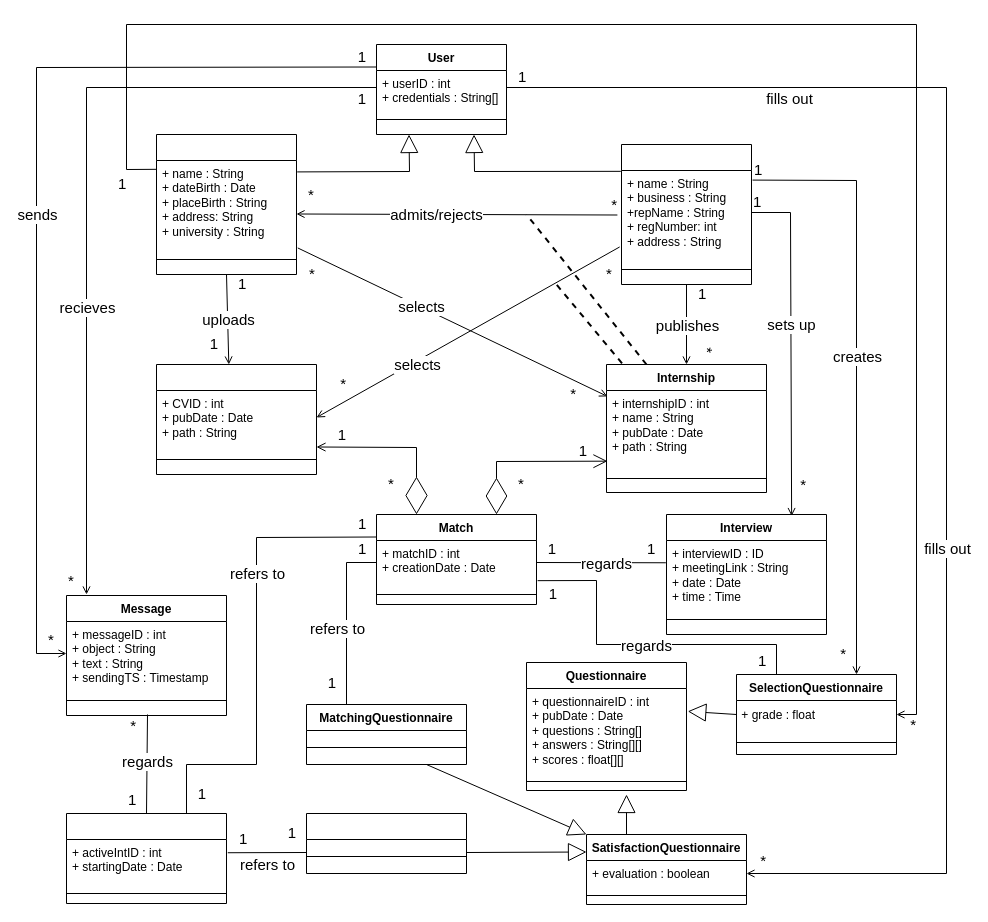
Some shapes in this 988 by 922 pixel diagram are drawn without their labels. The box of each missing label's shape, as (x1, y1, x2, y2) in pixels:
ActiveInternship: (66, 812, 226, 904)
Company: (620, 144, 752, 284)
CV: (156, 364, 316, 474)
InternshipQuestionnaire: (306, 812, 466, 874)
Student: (156, 134, 296, 274)
